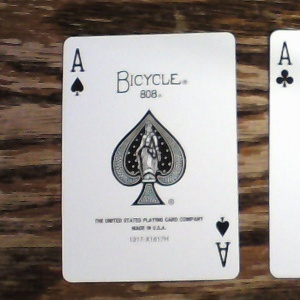card: (60, 30, 240, 280)
